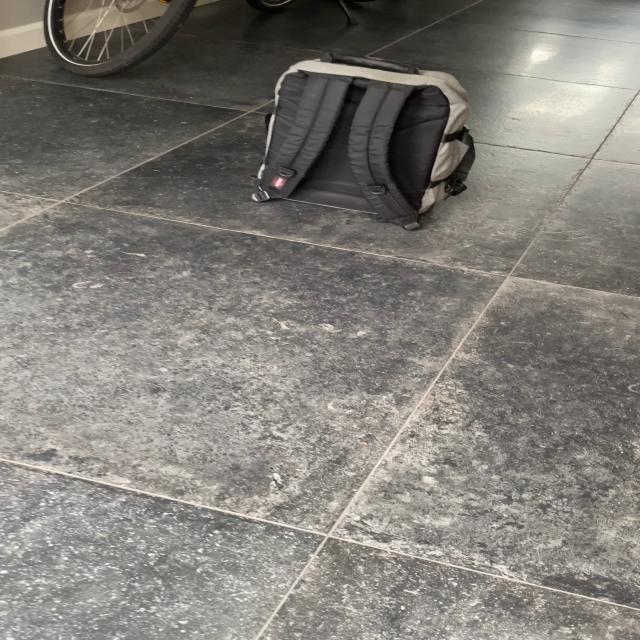backpack: (243, 52, 486, 228)
